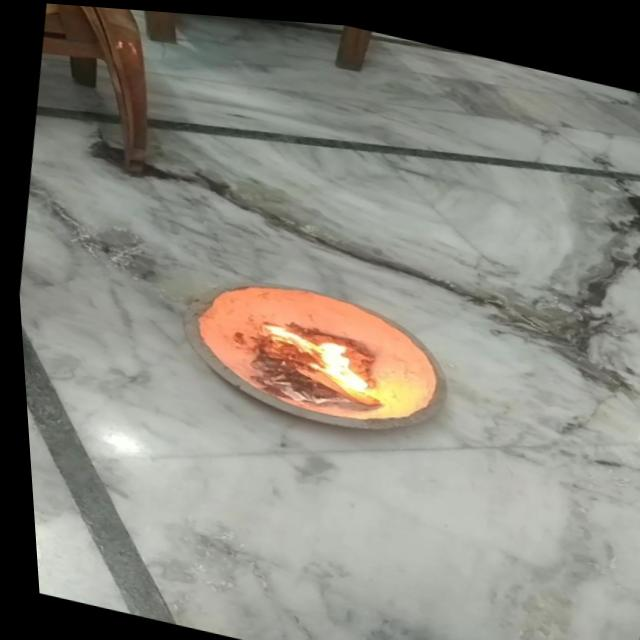fire: (251, 314, 386, 396)
